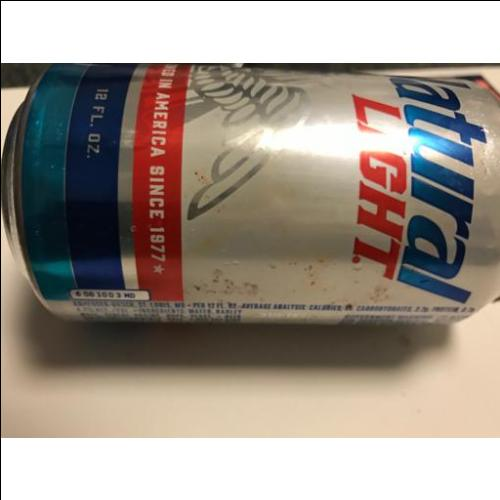metal: (1, 66, 500, 324)
